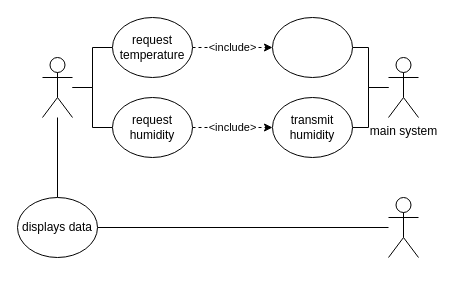
This 454x296 diagram has some shape labels left out. Here are the shapes that lost their labels. From the top down, the centre of each, then its label:
At (312,47): "transmit temperature".
At (57,87): "user".
At (403,227): "database".
